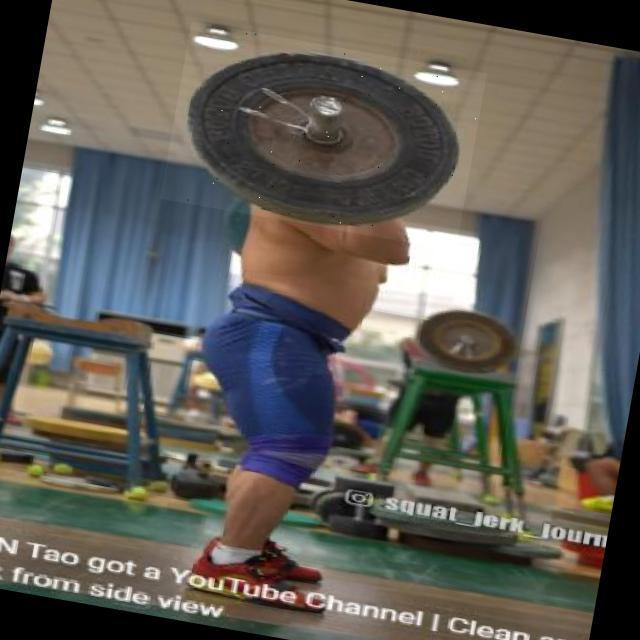barbell: (161, 23, 488, 252)
